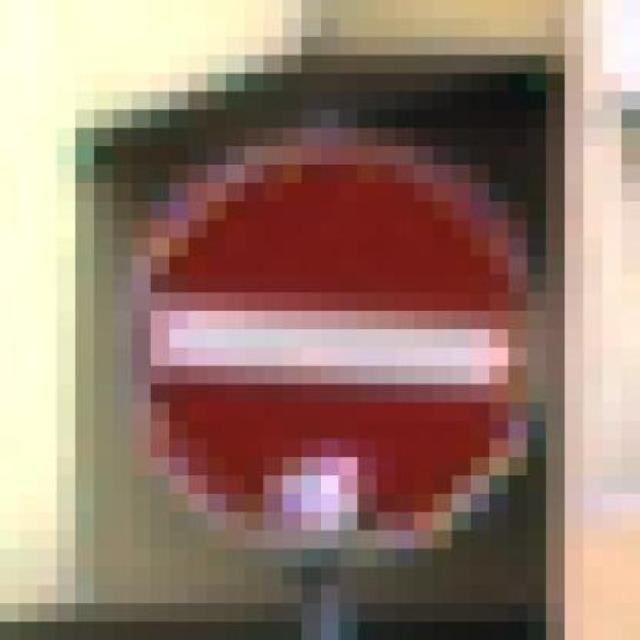No Entry: (94, 110, 546, 567)
